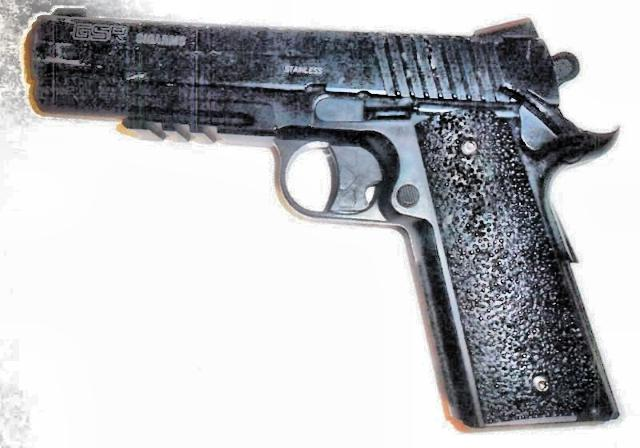pistol: (27, 8, 623, 428)
